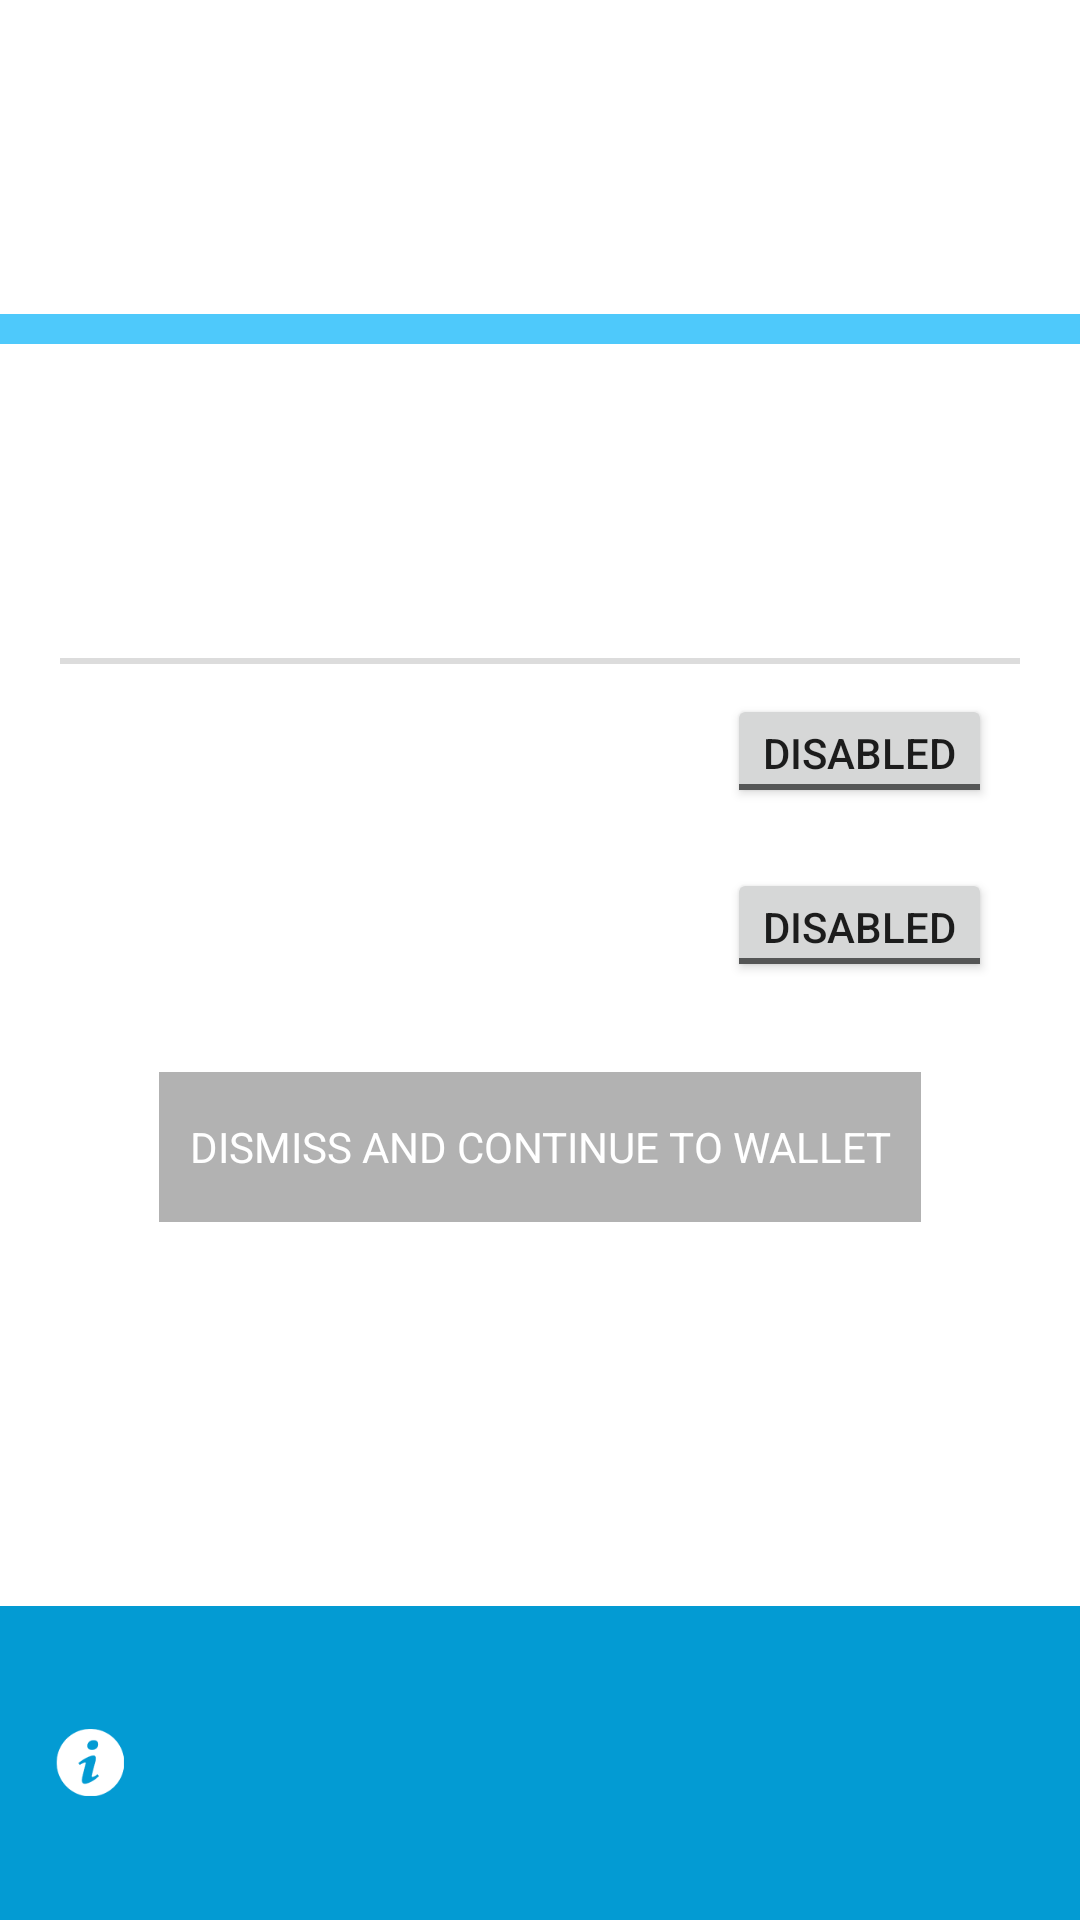

Icon click points for this 1080px×1920px phone screenshot, format (x,y):
info: (90,1762)
